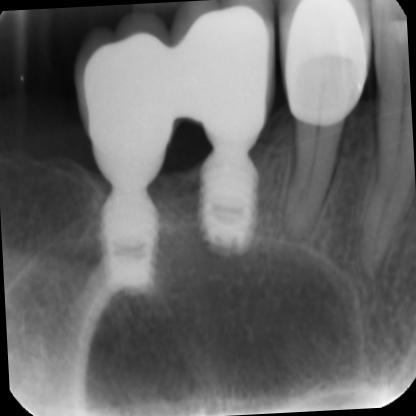Bicon: (186, 148, 270, 262), (88, 183, 164, 294)
